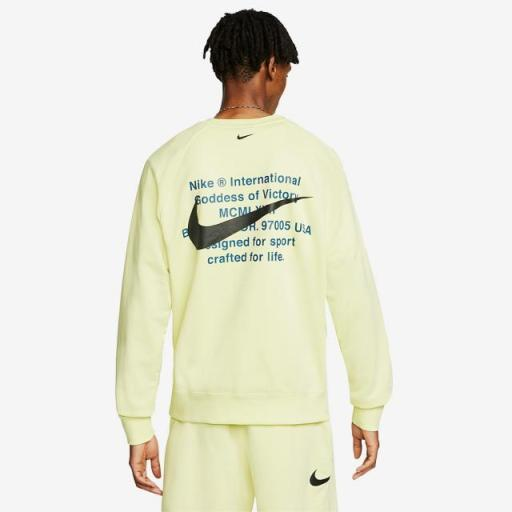Nike: (236, 130, 254, 144)
